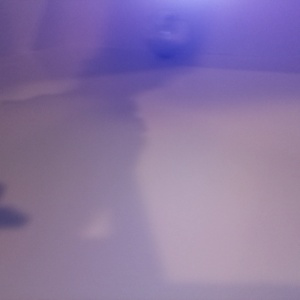alive_ball: (146, 11, 191, 57)
